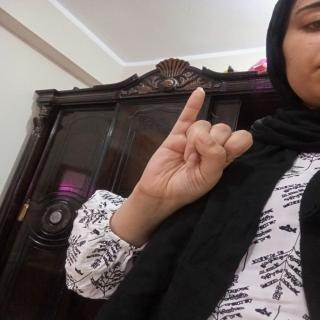MEEM: (122, 80, 262, 216)
